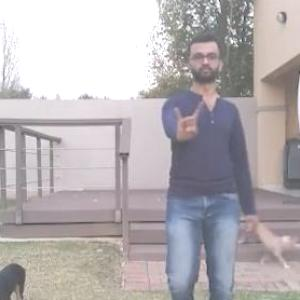takeoff-hand: (166, 94, 206, 148)
